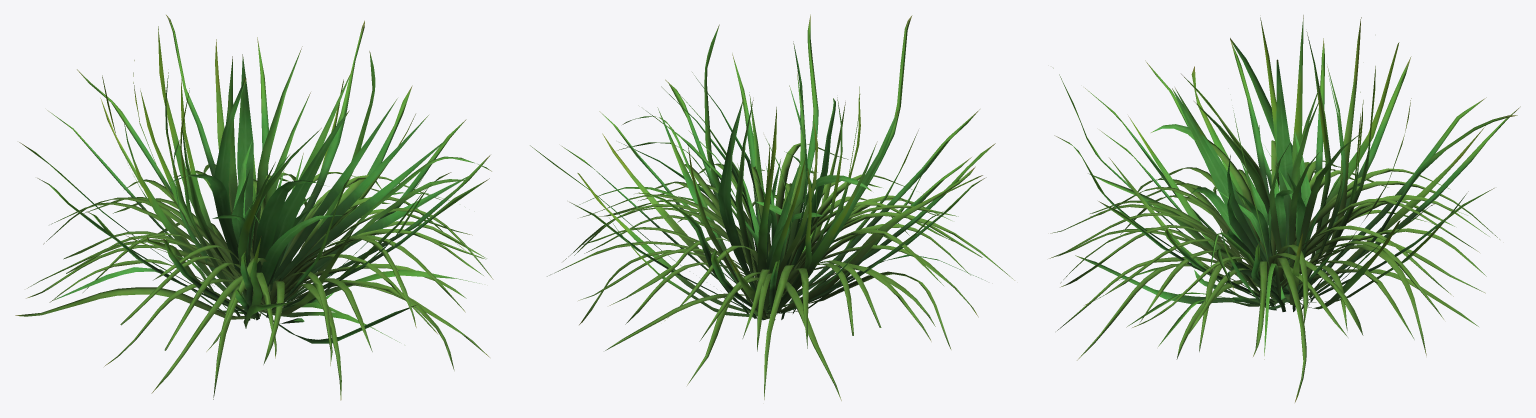
File: grass.glb
The picture shows the model from 3 angles, left to right: view 1: azimuth 30°, elevation 25°; view 2: azimuth 150°, elevation 25°; view 3: azimuth 270°, elevation 25°; orthographic projection. The views are drawn at different scales.
Visible parts, largest first — view 1: node_id51; view 2: node_id51; view 3: node_id51.
Part boxes in pixels (x1,y1,x2,y2): node_id51: [15, 15, 493, 400]; node_id51: [530, 14, 1014, 400]; node_id51: [1049, 15, 1520, 402].
Size of the model in its own units: 0.5107 by 0.2945 by 0.4866.
Materials: 1 (1 with a texture image).
